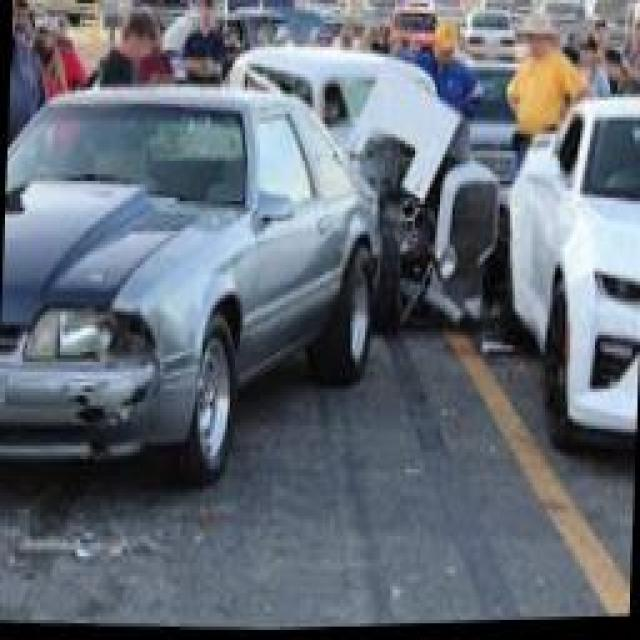Bumper: (30, 357, 153, 457)
Light: (19, 312, 159, 365)
